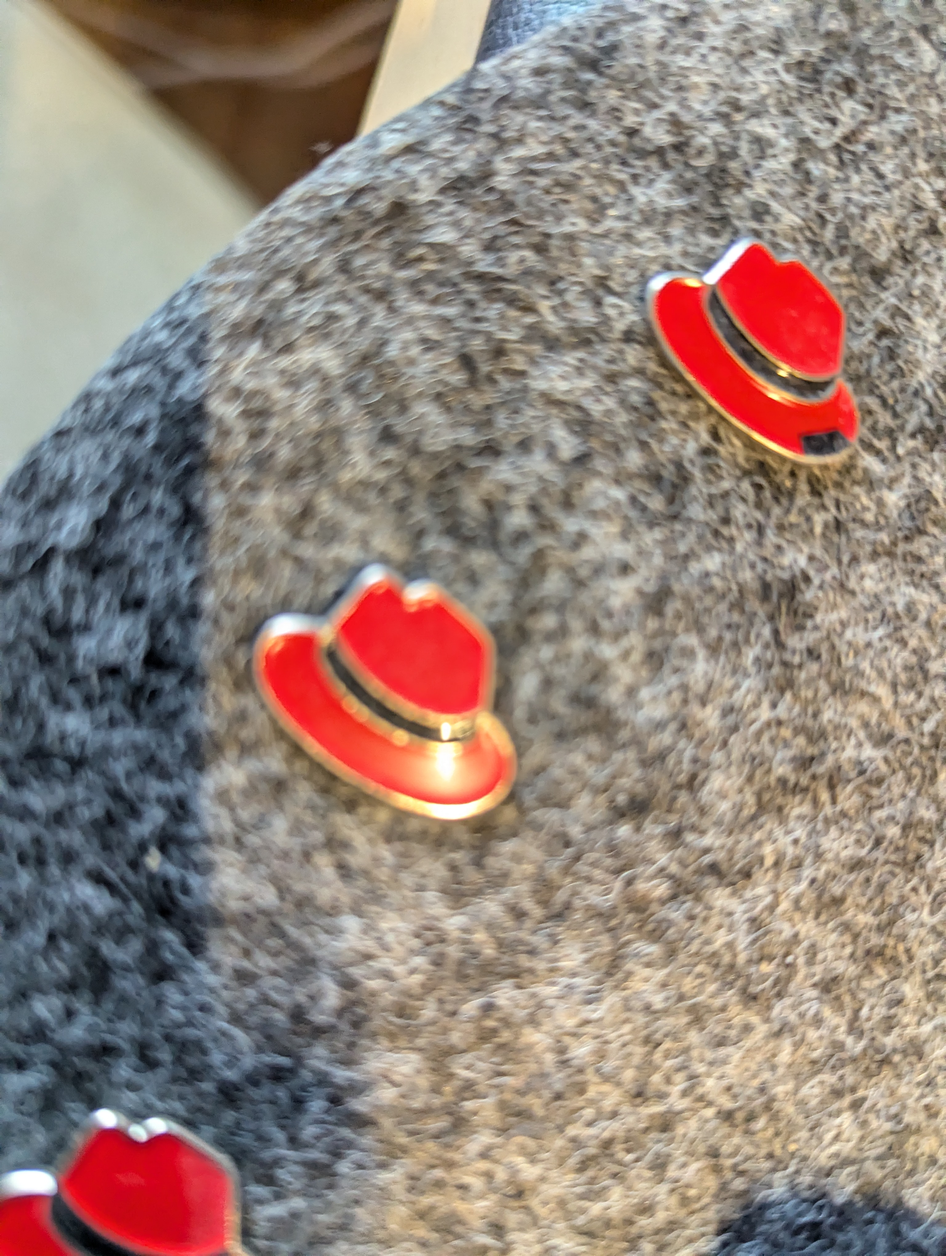Red-Hat: (223, 540, 570, 859), (641, 223, 892, 518), (0, 1085, 292, 1256)
Scratch: (782, 417, 857, 471)
